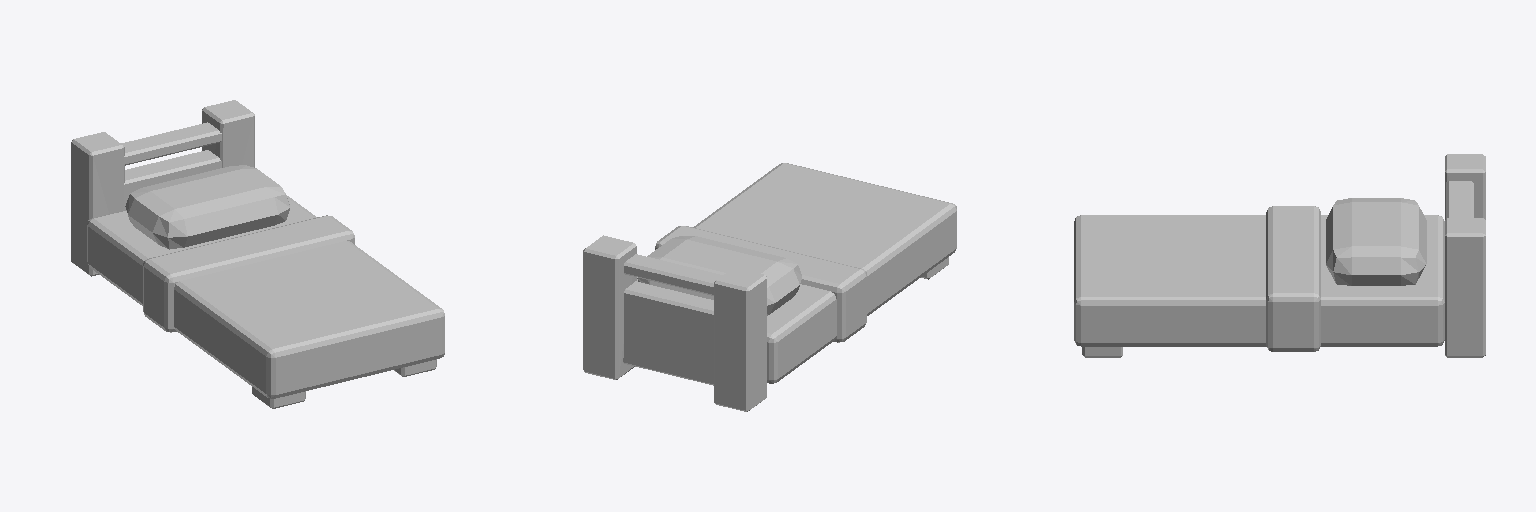
Rendered from bed_single_A.obj.
3 renders of one model, left to right at view 1: azimuth 30°, elevation 25°; view 2: azimuth 150°, elevation 25°; view 3: azimuth 270°, elevation 25°, orthographic.
Visible parts, largest first — view 1: bed_single_A_Cube.039; view 2: bed_single_A_Cube.039; view 3: bed_single_A_Cube.039.
Boxes of the visible parts, <box> form: bed_single_A_Cube.039: <box>71,100,444,408</box>; bed_single_A_Cube.039: <box>583,163,956,411</box>; bed_single_A_Cube.039: <box>1074,154,1485,357</box>.
Size of the model in its own units: 1.6 by 1 by 3.